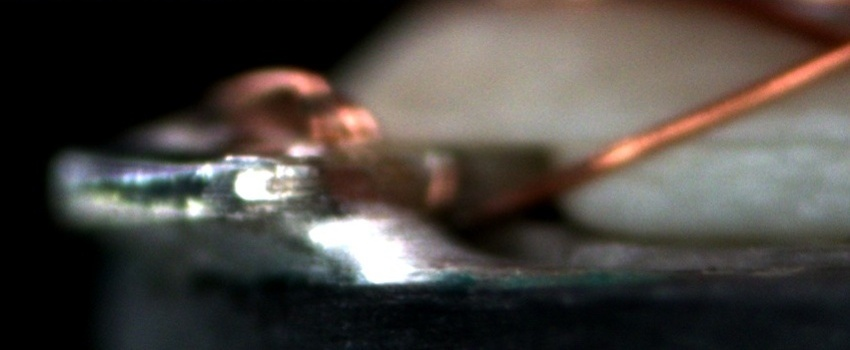CL: (799, 13, 848, 78)
DL: (678, 110, 849, 174)
TE: (202, 59, 386, 157)
